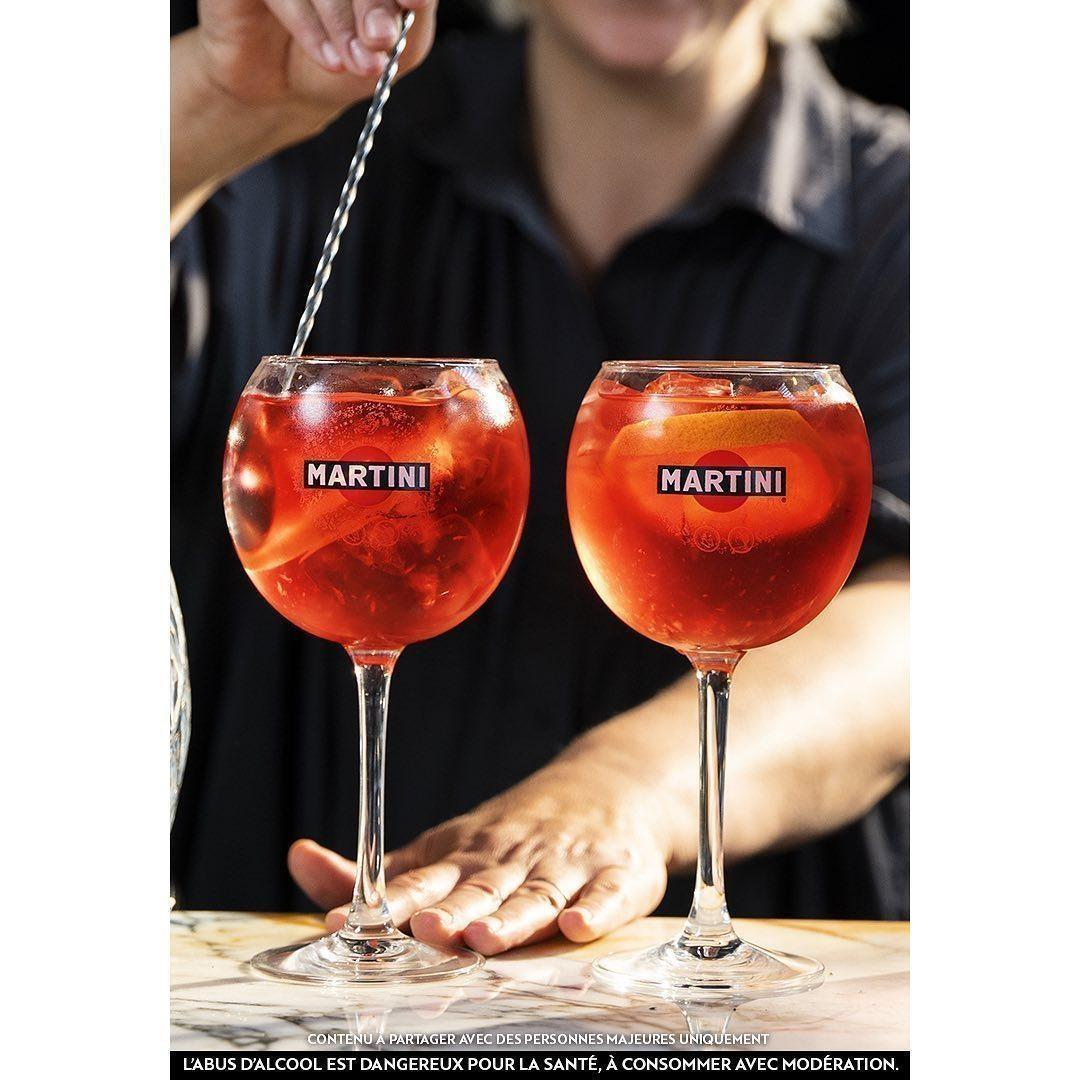glass-wine: (214, 338, 538, 1005), (559, 341, 878, 997)
